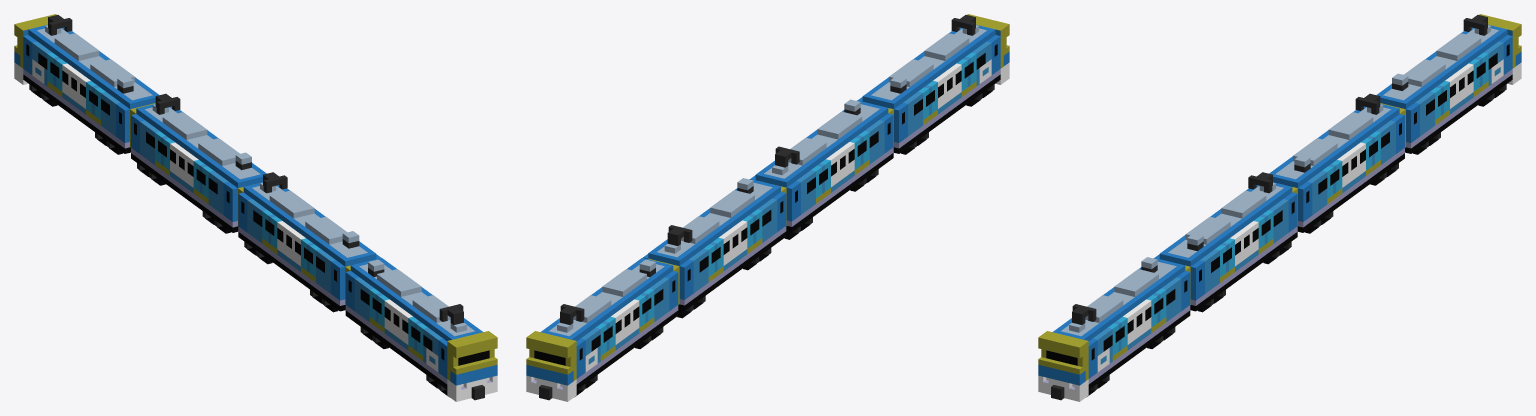
File: Train.fbx
3 views of the same model, side by side, from view 1: azimuth 30°, elevation 25°; view 2: azimuth 150°, elevation 25°; view 3: azimuth 330°, elevation 25° (orthographic).
Parts seen in each view (by area): view 1: Куб.005, Куб.003, Куб.004, Куб.002; view 2: Куб.003, Куб.005, Куб.002, Куб.004; view 3: Куб.005, Куб.003, Куб.004, Куб.002.
Part boxes in pixels (bbox=[...]): Куб.005: bbox=[345, 258, 497, 401]; Куб.003: bbox=[14, 14, 159, 154]; Куб.004: bbox=[238, 172, 380, 312]; Куб.002: bbox=[130, 93, 266, 233]; Куб.003: bbox=[526, 258, 679, 401]; Куб.005: bbox=[858, 14, 1009, 154]; Куб.002: bbox=[643, 178, 786, 318]; Куб.004: bbox=[750, 99, 893, 239]; Куб.005: bbox=[1038, 257, 1190, 401]; Куб.003: bbox=[1376, 14, 1521, 154]; Куб.004: bbox=[1155, 172, 1297, 312]; Куб.002: bbox=[1269, 93, 1405, 233].
Size of the model in its own units: 136 by 237 by 2533.
